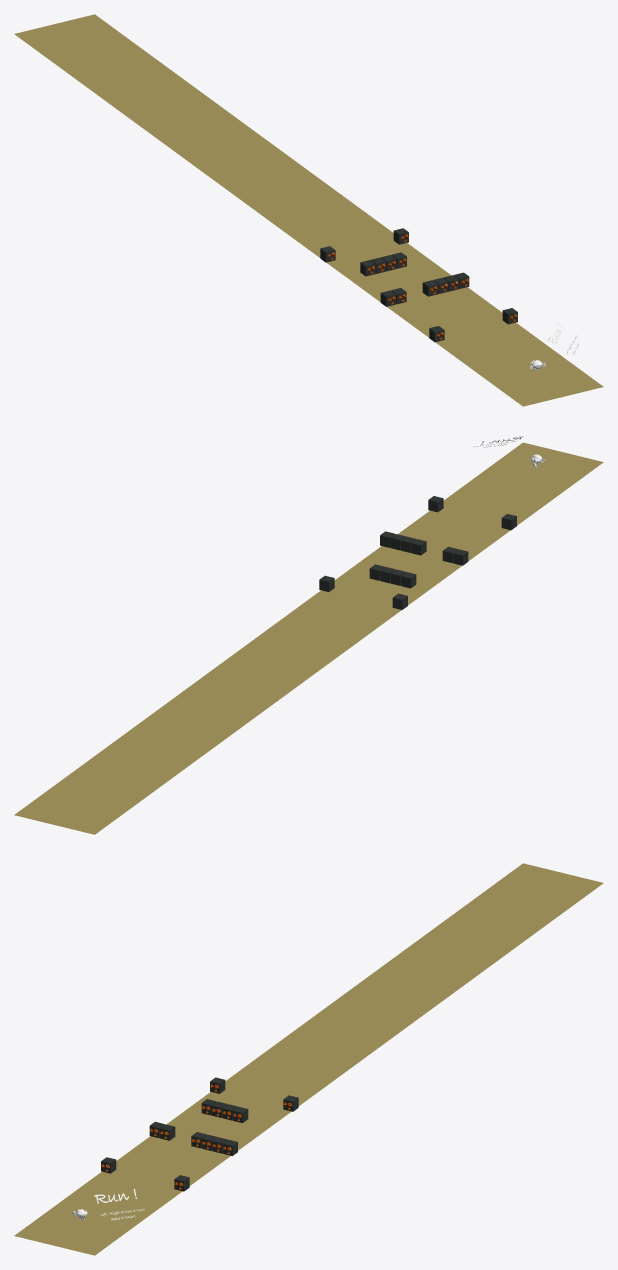
The model's file is assets.gltf.
The picture shows the model from 3 angles, top to bottom: view 1: azimuth 30°, elevation 25°; view 2: azimuth 150°, elevation 25°; view 3: azimuth 330°, elevation 25°; orthographic projection.
Visible parts, largest first — view 1: Plane.004, Plane.003, Plane.002, Plane, Plane.001; view 2: Plane.004, Plane.002, Plane.003, Plane, Plane.001; view 3: Plane.004, Plane.003, Plane.002, Plane, Plane.001.
Boxes of the visible parts, x1=… form: Plane.004: x1=14, y1=14, x2=196, y2=108; Plane.003: x1=116, y1=89, x2=297, y2=182; Plane.002: x1=218, y1=163, x2=393, y2=257; Plane: x1=421, y1=312, x2=603, y2=406; Plane.001: x1=320, y1=239, x2=501, y2=331; Plane.004: x1=14, y1=740, x2=195, y2=834; Plane.002: x1=218, y1=591, x2=399, y2=685; Plane.003: x1=116, y1=666, x2=297, y2=760; Plane: x1=422, y1=442, x2=603, y2=536; Plane.001: x1=320, y1=517, x2=501, y2=610; Plane.004: x1=421, y1=863, x2=603, y2=957; Plane.003: x1=320, y1=938, x2=501, y2=1031; Plane.002: x1=225, y1=1012, x2=399, y2=1105; Plane: x1=14, y1=1161, x2=196, y2=1255; Plane.001: x1=116, y1=1089, x2=291, y2=1180.
Size of the model in its own units: 9.45 by 3.2 by 84.13.
2 materials, 2 textured.
